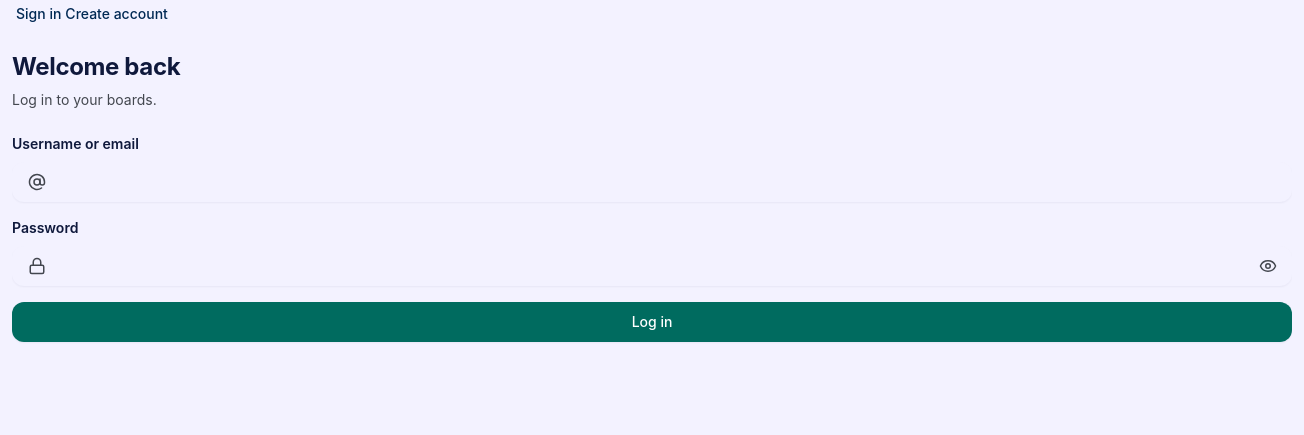
Test: AuthForm › shows a countdown and disables the button after a 429
Type "ann" into the field labelled "Username or email".
click(652, 182); type("ann")  # box [12, 162, 1292, 202]
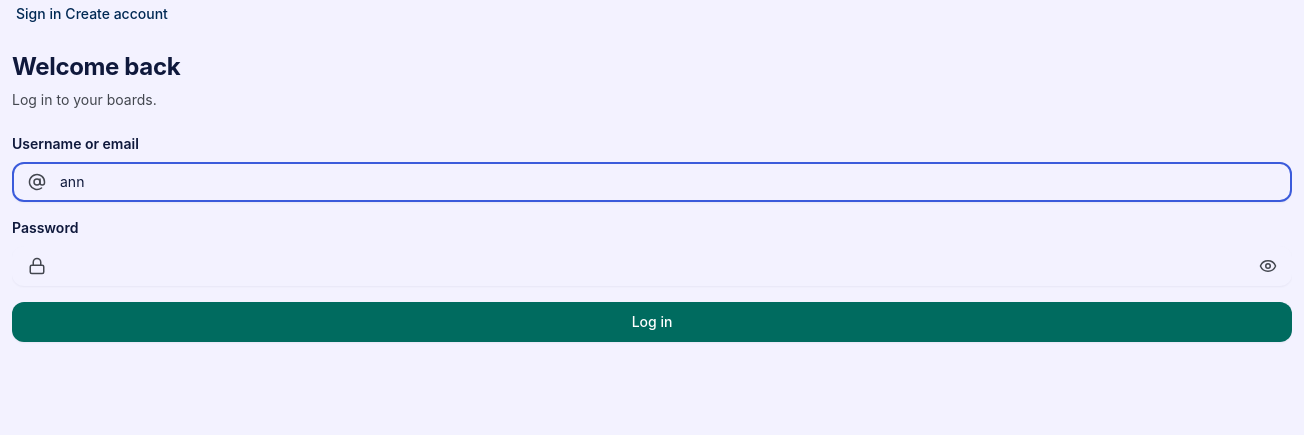
Type "secret-pass" into the password field labelled "Password".
click(652, 266); type("secret-pass")  # box [12, 246, 1292, 286]
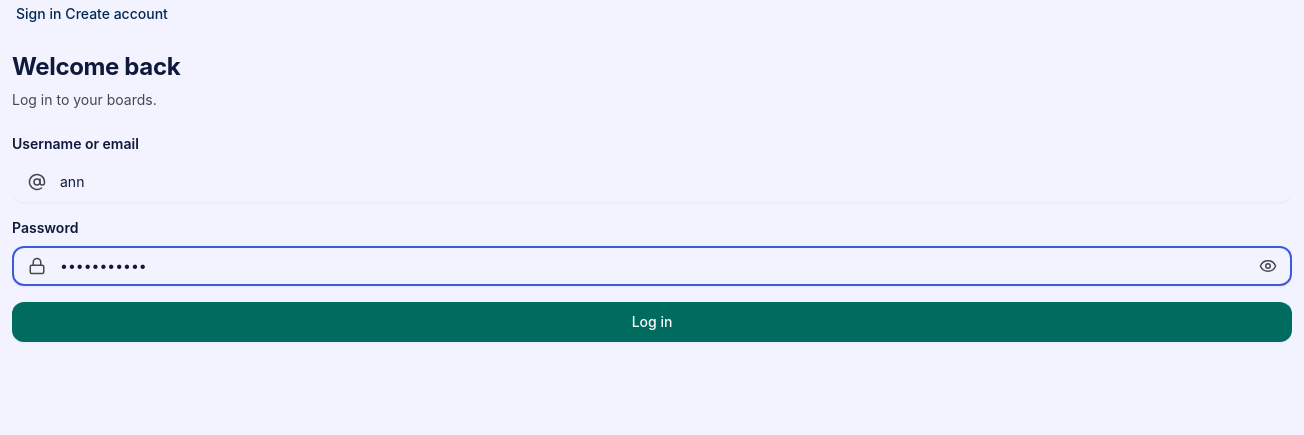
Click the button "Log in".
click(652, 322)  # box [12, 302, 1292, 342]
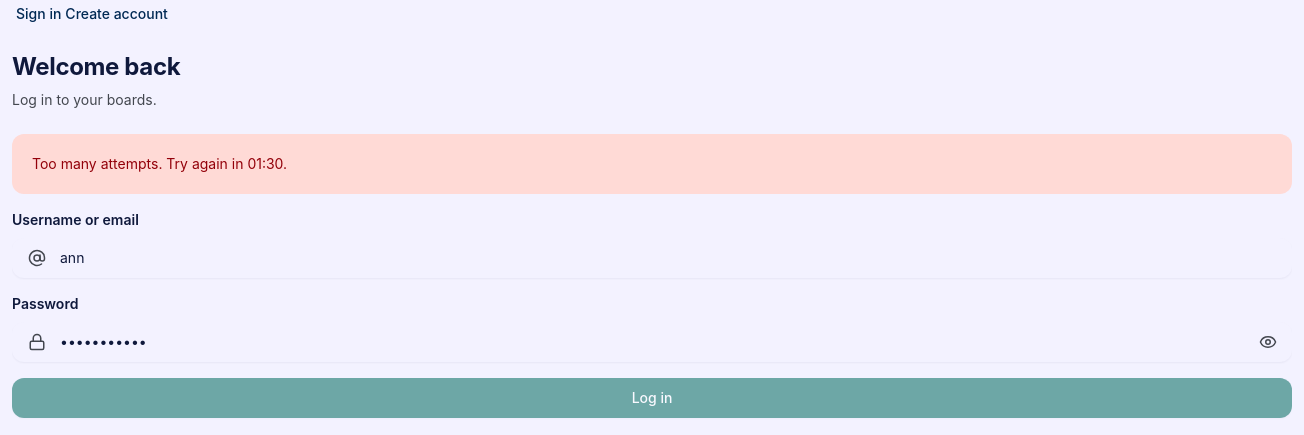
expect the text "Too many attempts. Try again in 01:30." is shown: met, box [12, 134, 1292, 194]
expect the button "Log in" is disabled: met, box [12, 378, 1292, 418]
